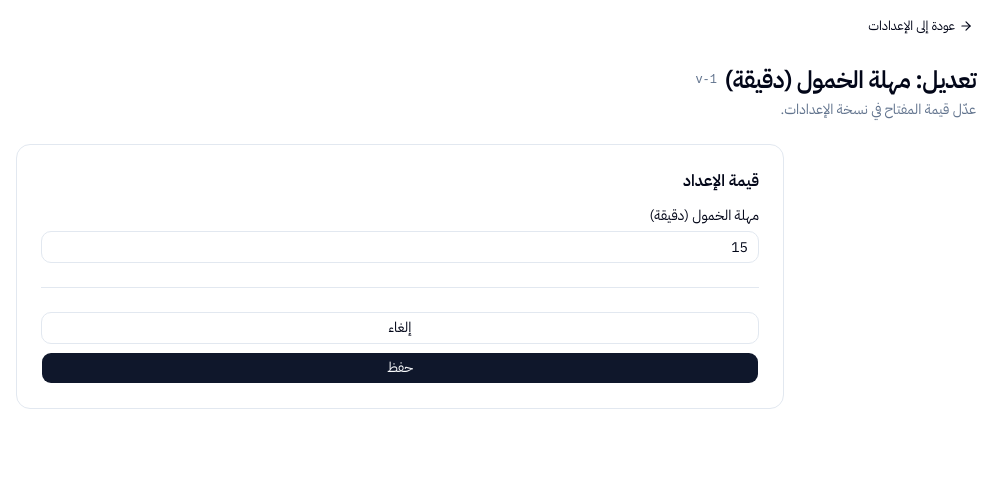
Test: security setting edit page › surfaces a stale 412 as an alert, reloads the list, and keeps the typed value
Replace the text in the number field labelled "مهلة الخمول (دقيقة)" with "25" at (400, 247), box [41, 231, 759, 263]
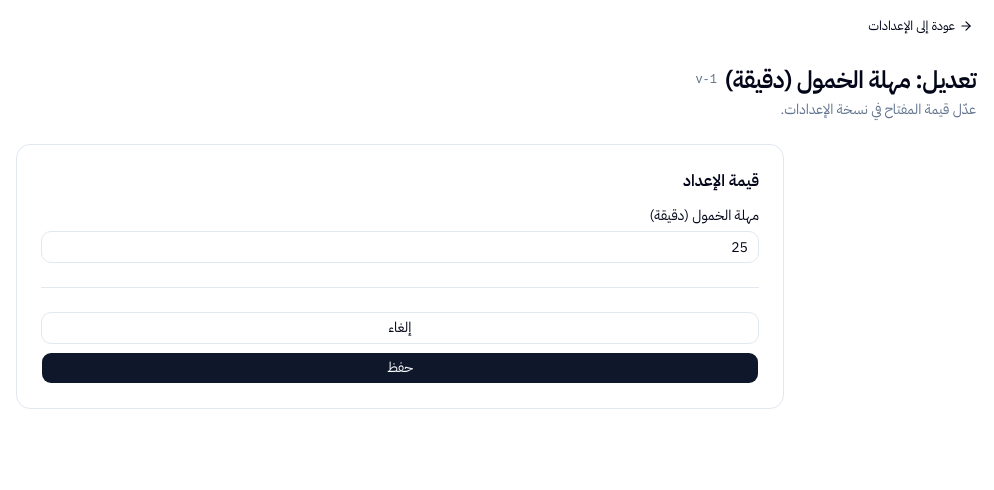
Click the button "حفظ" at (400, 368), box [41, 352, 759, 384]
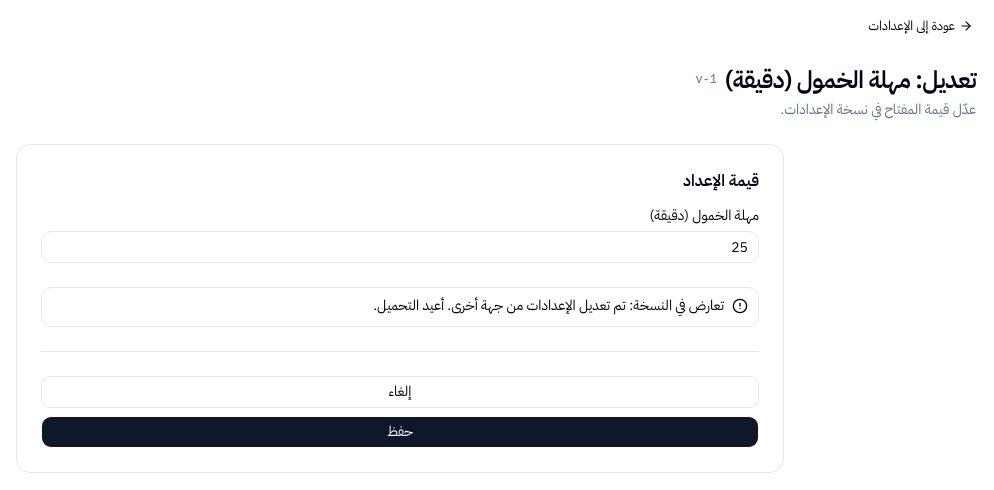
Expected: the text "تعارض في النسخة" is shown, [373, 295, 724, 316]
